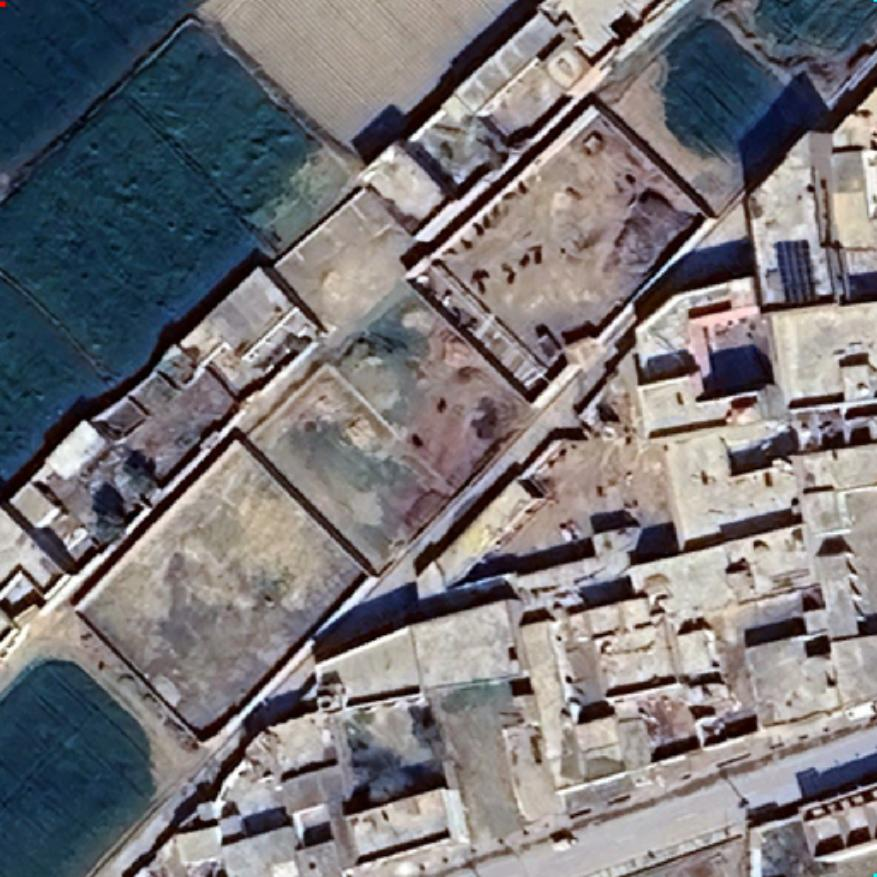Solarpanel: (773, 234, 823, 307)
